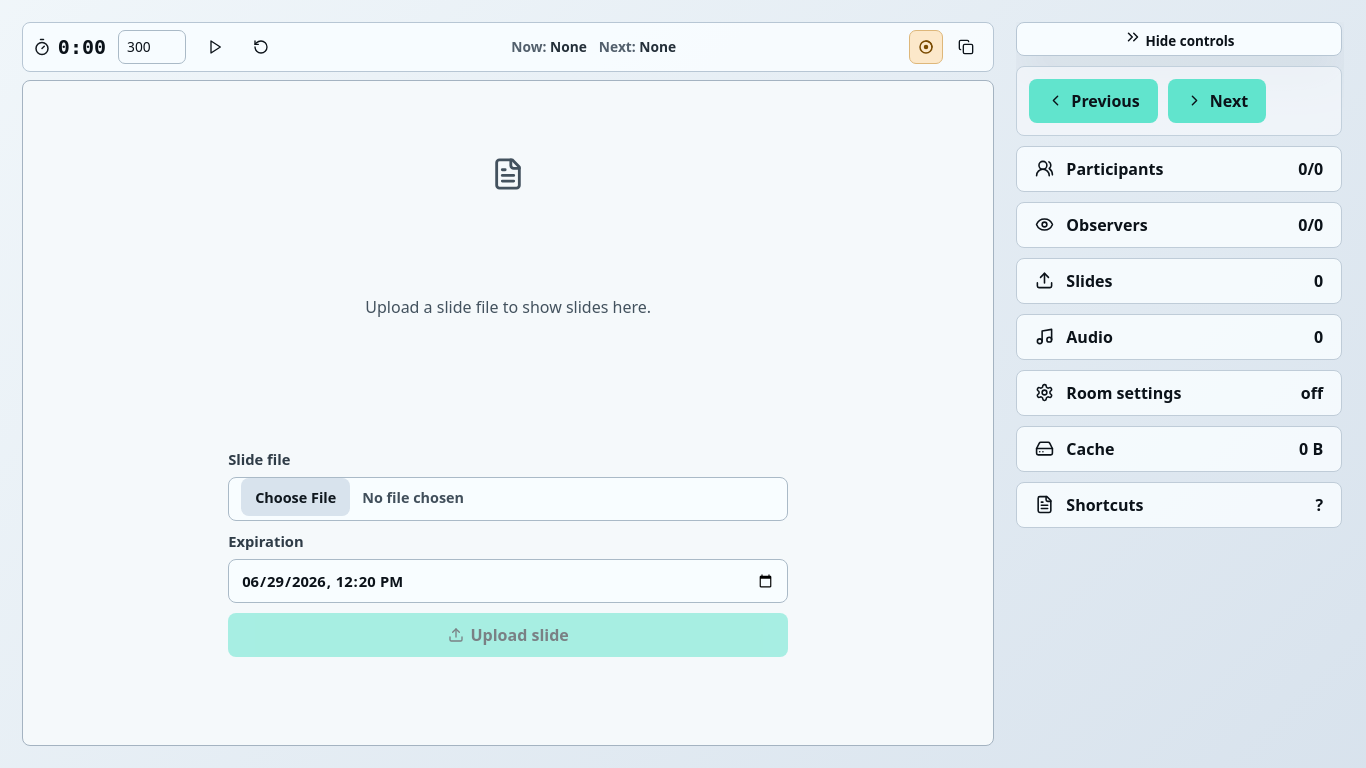
Test: App landing polish › shows cached audio restore upload errors with file names
This screenshot has width=1366, height=768.
Click the button "Cache 0 B".
click(1090, 449)  # box left=1017, top=427, right=1341, bottom=471
(page scrolled)
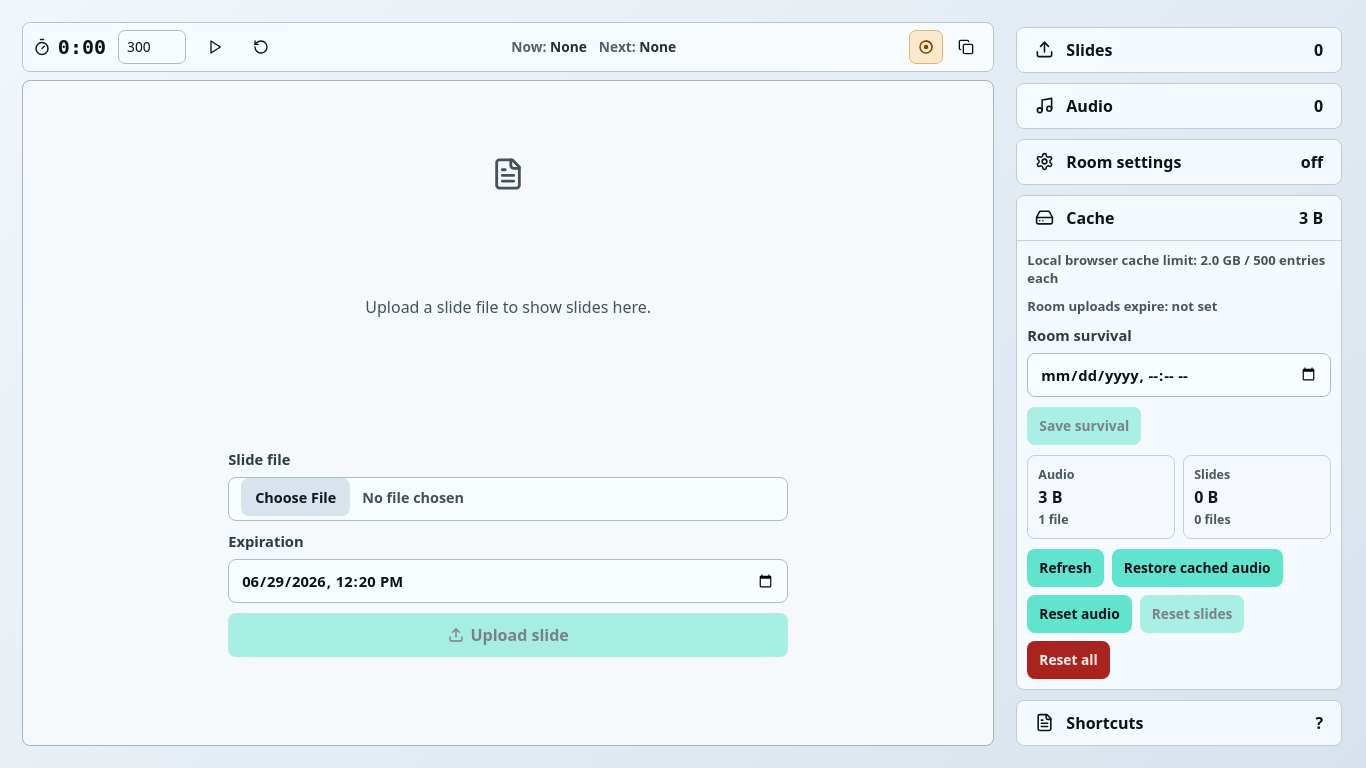
Click the button "Restore cached audio".
click(1197, 568)  # box left=1112, top=549, right=1283, bottom=587
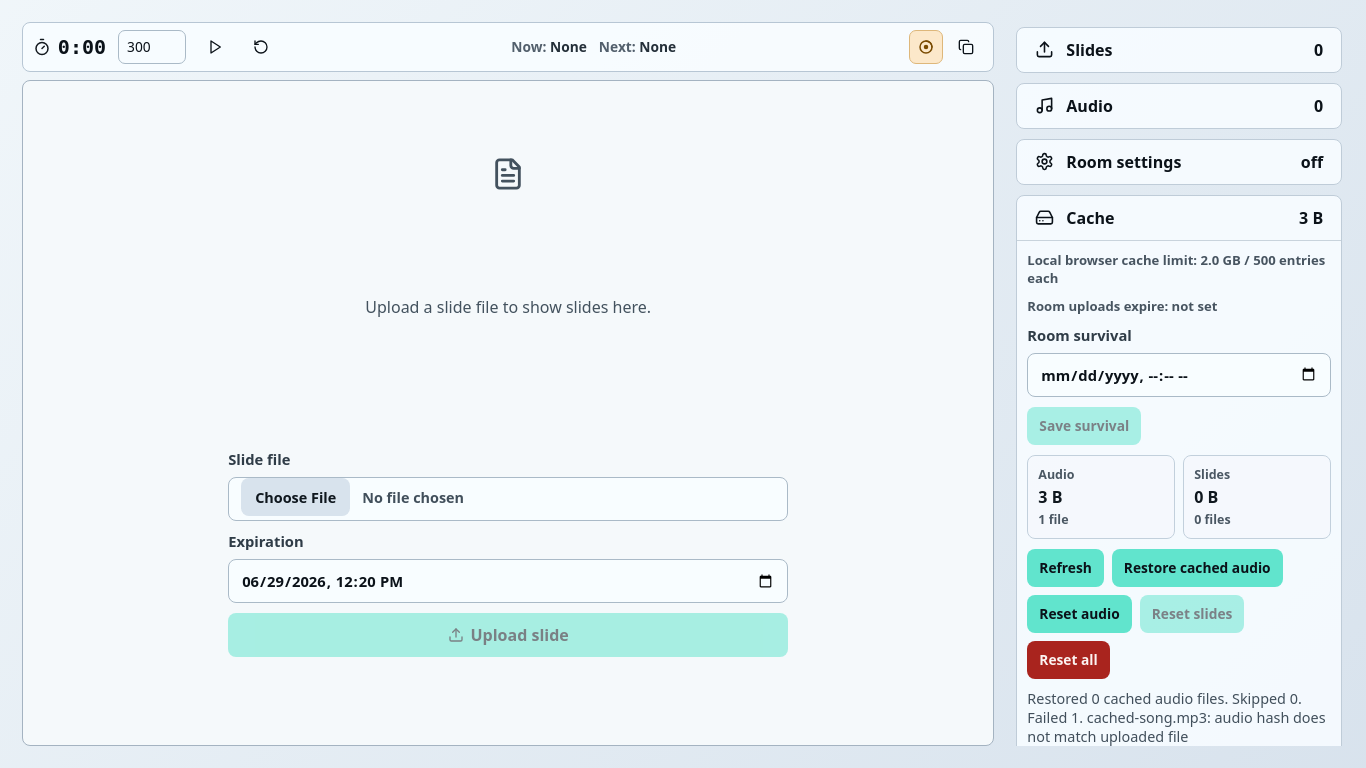
Expected: the text "Restored 0 cached audio files. Skipped 0. Failed 1. cached-song.mp3: audio hash does not match uploaded file" is shown, left=1027, top=689, right=1326, bottom=746
